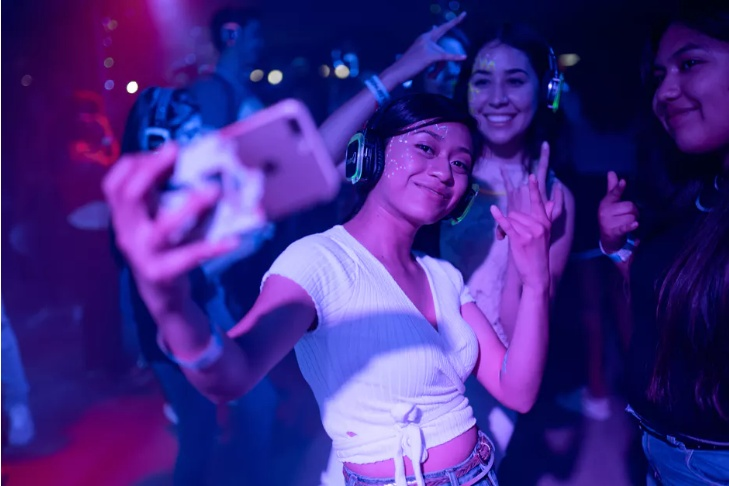face: (382, 118, 475, 224)
